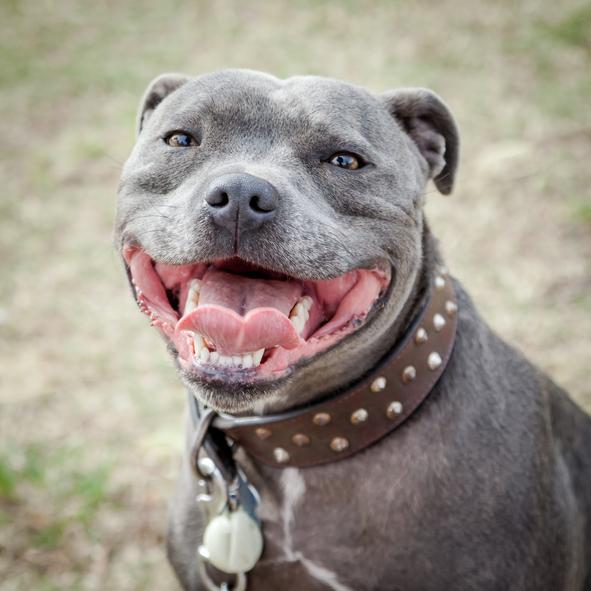Perro Pitbull: (74, 43, 507, 482)
